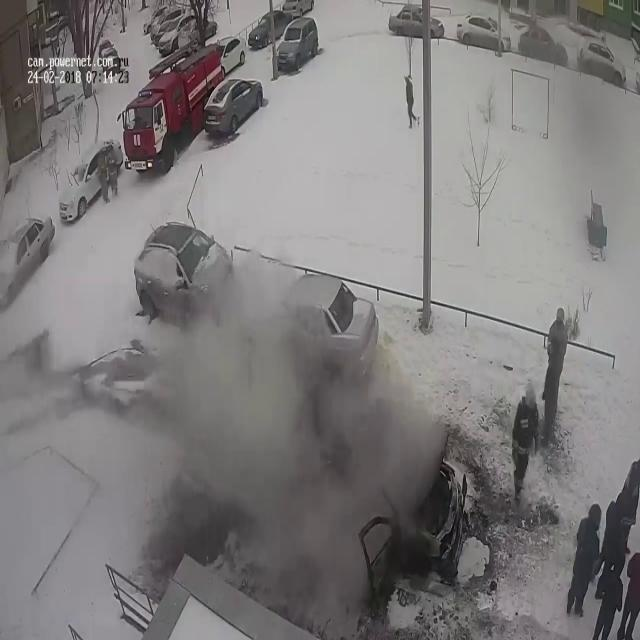Smoke: (132, 222, 500, 620)
